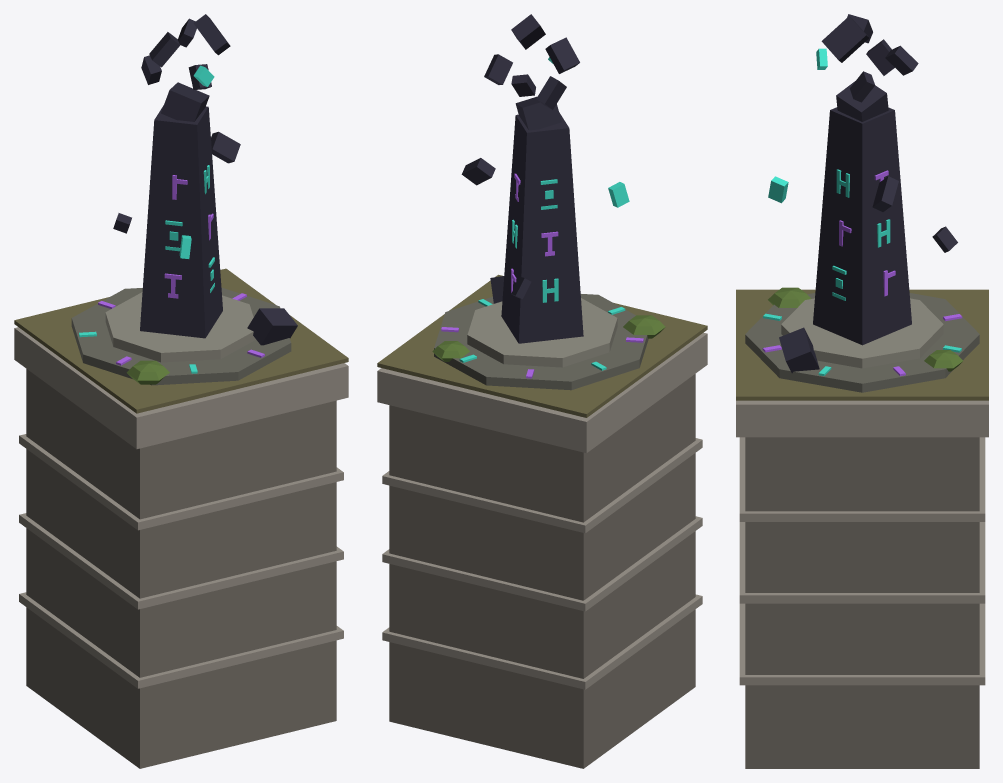
File: decor_monolith.glb
The picture shows the model from 3 angles, left to right: view 1: azimuth 30°, elevation 25°; view 2: azimuth 150°, elevation 25°; view 3: azimuth 270°, elevation 25°; orthographic projection. The views are drawn at different scales.
Visible parts, largest first — view 1: decor_monolith; view 2: decor_monolith; view 3: decor_monolith.
Boxes of the visible parts, bbox=[...] form: decor_monolith: bbox=[14, 14, 348, 768]; decor_monolith: bbox=[377, 14, 707, 768]; decor_monolith: bbox=[736, 14, 988, 768].
Size of the model in its own units: 2.8 by 8.71 by 2.8.
